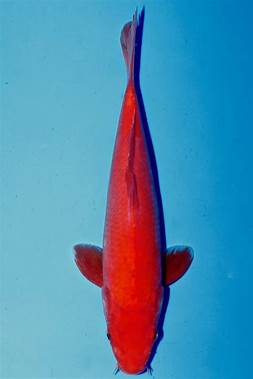red: (73, 7, 194, 375)
